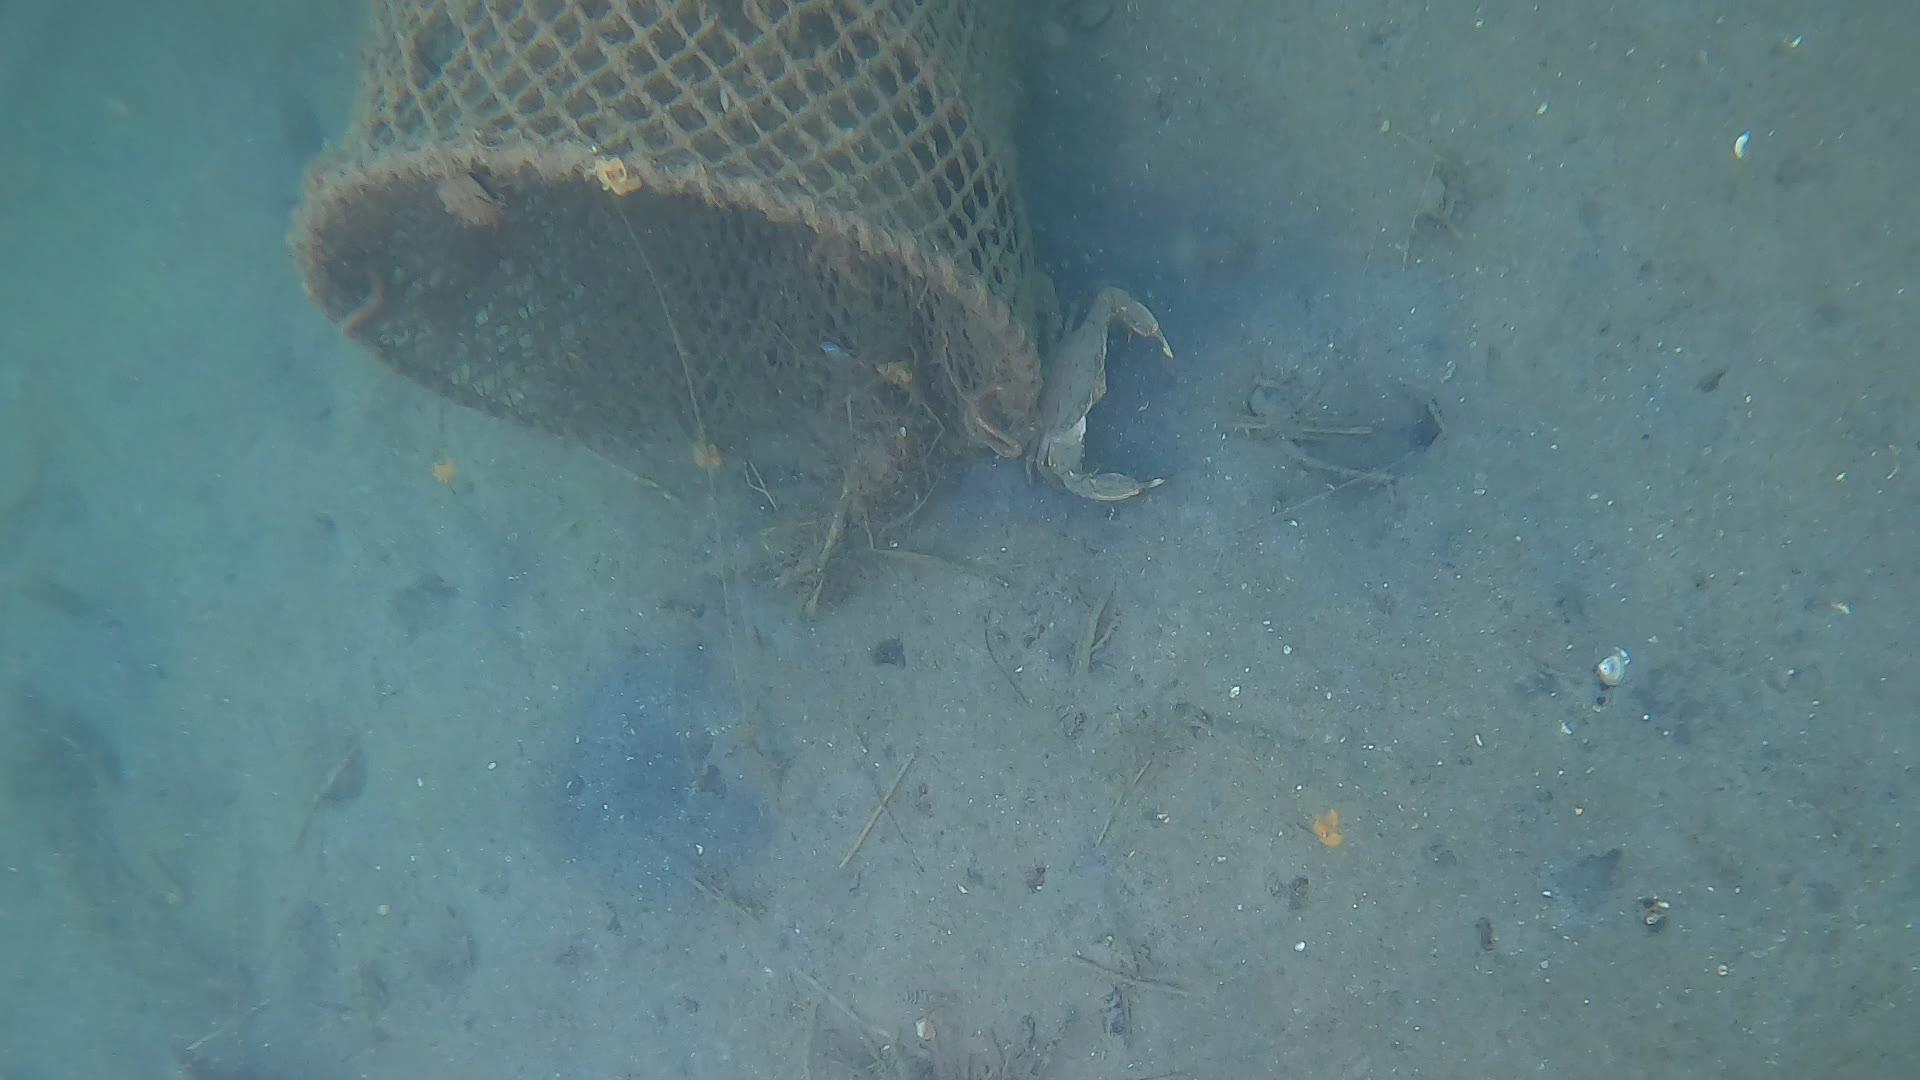spring fish trap: (294, 0, 1047, 460)
